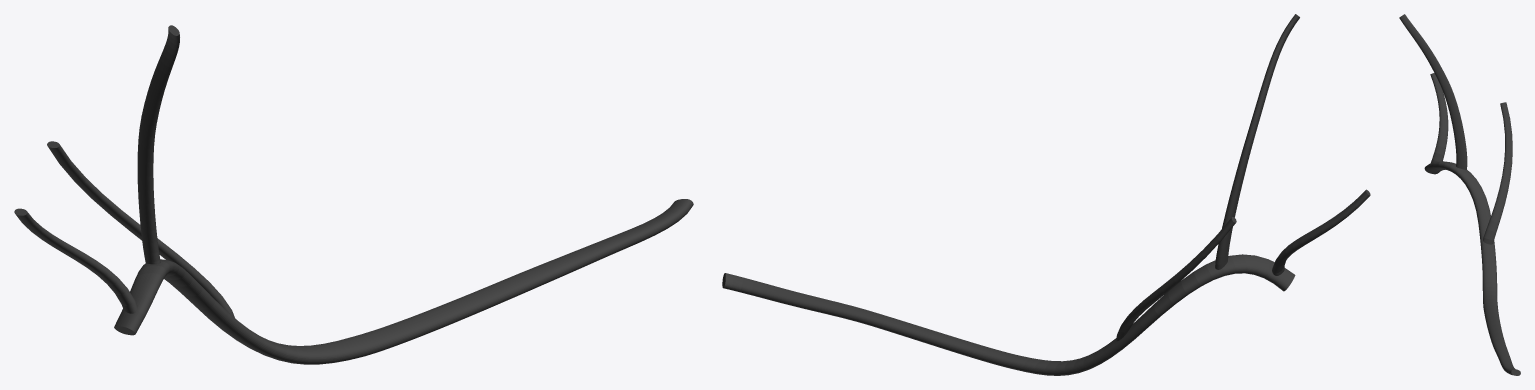
The model's file is N_9_glossopharnygeal_tympanic.glb.
The picture shows the model from 3 angles, left to right: view 1: azimuth 30°, elevation 25°; view 2: azimuth 150°, elevation 25°; view 3: azimuth 270°, elevation 25°; orthographic projection. The views are drawn at different scales.
Visible parts, largest first — view 1: N_9_glossopharnygeal_tympanic; view 2: N_9_glossopharnygeal_tympanic; view 3: N_9_glossopharnygeal_tympanic.
Part boxes in pixels (x1=…): N_9_glossopharnygeal_tympanic: x1=14, y1=25, x2=693, y2=364; N_9_glossopharnygeal_tympanic: x1=722, y1=14, x2=1370, y2=375; N_9_glossopharnygeal_tympanic: x1=1399, y1=14, x2=1520, y2=375.
Size of the model in its own units: 0.0239 by 0.0139 by 0.00669.
Materials: 1 (1 with a texture image).
